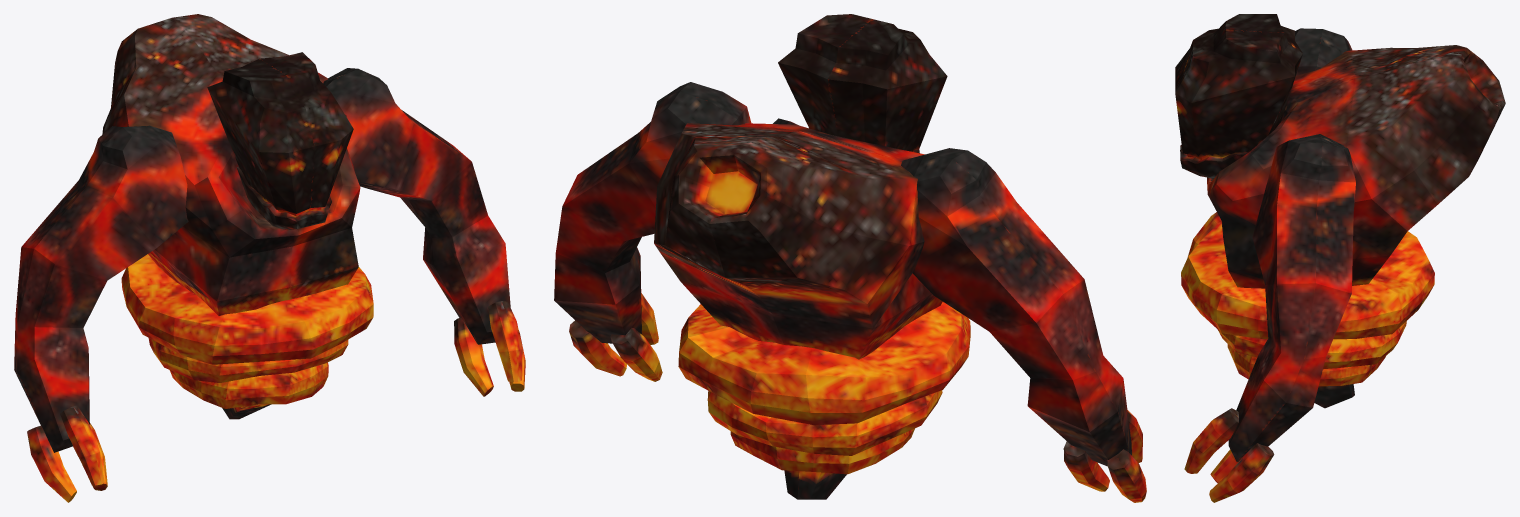
Rendered from volcan.obj.
3 renders of one model, left to right at view 1: azimuth 30°, elevation 25°; view 2: azimuth 150°, elevation 25°; view 3: azimuth 270°, elevation 25°, orthographic. The views are drawn at different scales.
Visible parts, largest first — view 1: Body, ArmRight, ArmLeft, Head, Effect01, Effect03, HandRight, HandLeft, Effect02, Mouth; view 2: Body, ArmRight, Effect01, ArmLeft, Head, Effect02, HandLeft, Effect03, HandRight; view 3: Body, ArmLeft, Head, Effect01, HandLeft, Effect02, ArmRight, Effect03, Mouth, HandRight.
Boxes of the visible parts, x1,y1,x2,y2 form: Body: (102, 14, 360, 419); ArmRight: (14, 125, 188, 452); ArmLeft: (323, 68, 510, 344); Head: (207, 52, 353, 216); Effect01: (121, 254, 373, 364); Effect03: (169, 362, 328, 408); HandRight: (27, 405, 107, 502); HandLeft: (454, 301, 525, 396); Effect02: (148, 338, 348, 382); Mouth: (236, 166, 331, 230); Body: (654, 118, 942, 499); ArmRight: (901, 148, 1131, 466); Effect01: (678, 302, 970, 425); ArmLeft: (554, 82, 751, 343); Head: (778, 14, 947, 151); Effect02: (707, 390, 942, 455); HandLeft: (569, 293, 662, 381); Effect03: (730, 428, 914, 474); HandRight: (1063, 410, 1146, 502); Body: (1207, 45, 1505, 408); ArmLeft: (1228, 134, 1355, 461); Head: (1175, 14, 1302, 159); Effect01: (1181, 222, 1434, 339); HandLeft: (1184, 408, 1274, 502); Effect02: (1218, 321, 1406, 369); ArmRight: (1295, 28, 1352, 75); Effect03: (1227, 344, 1385, 386); Mouth: (1180, 145, 1248, 178); HandRight: (1188, 212, 1221, 256).
Bounding box in the file's own units: 2.89 × 2.14 × 1.71.
